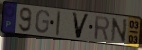9: (18, 7, 33, 34)
G: (34, 10, 51, 35)
I: (55, 11, 62, 37)
N: (110, 17, 129, 44)
R: (94, 15, 111, 42)
V: (71, 12, 91, 40)
